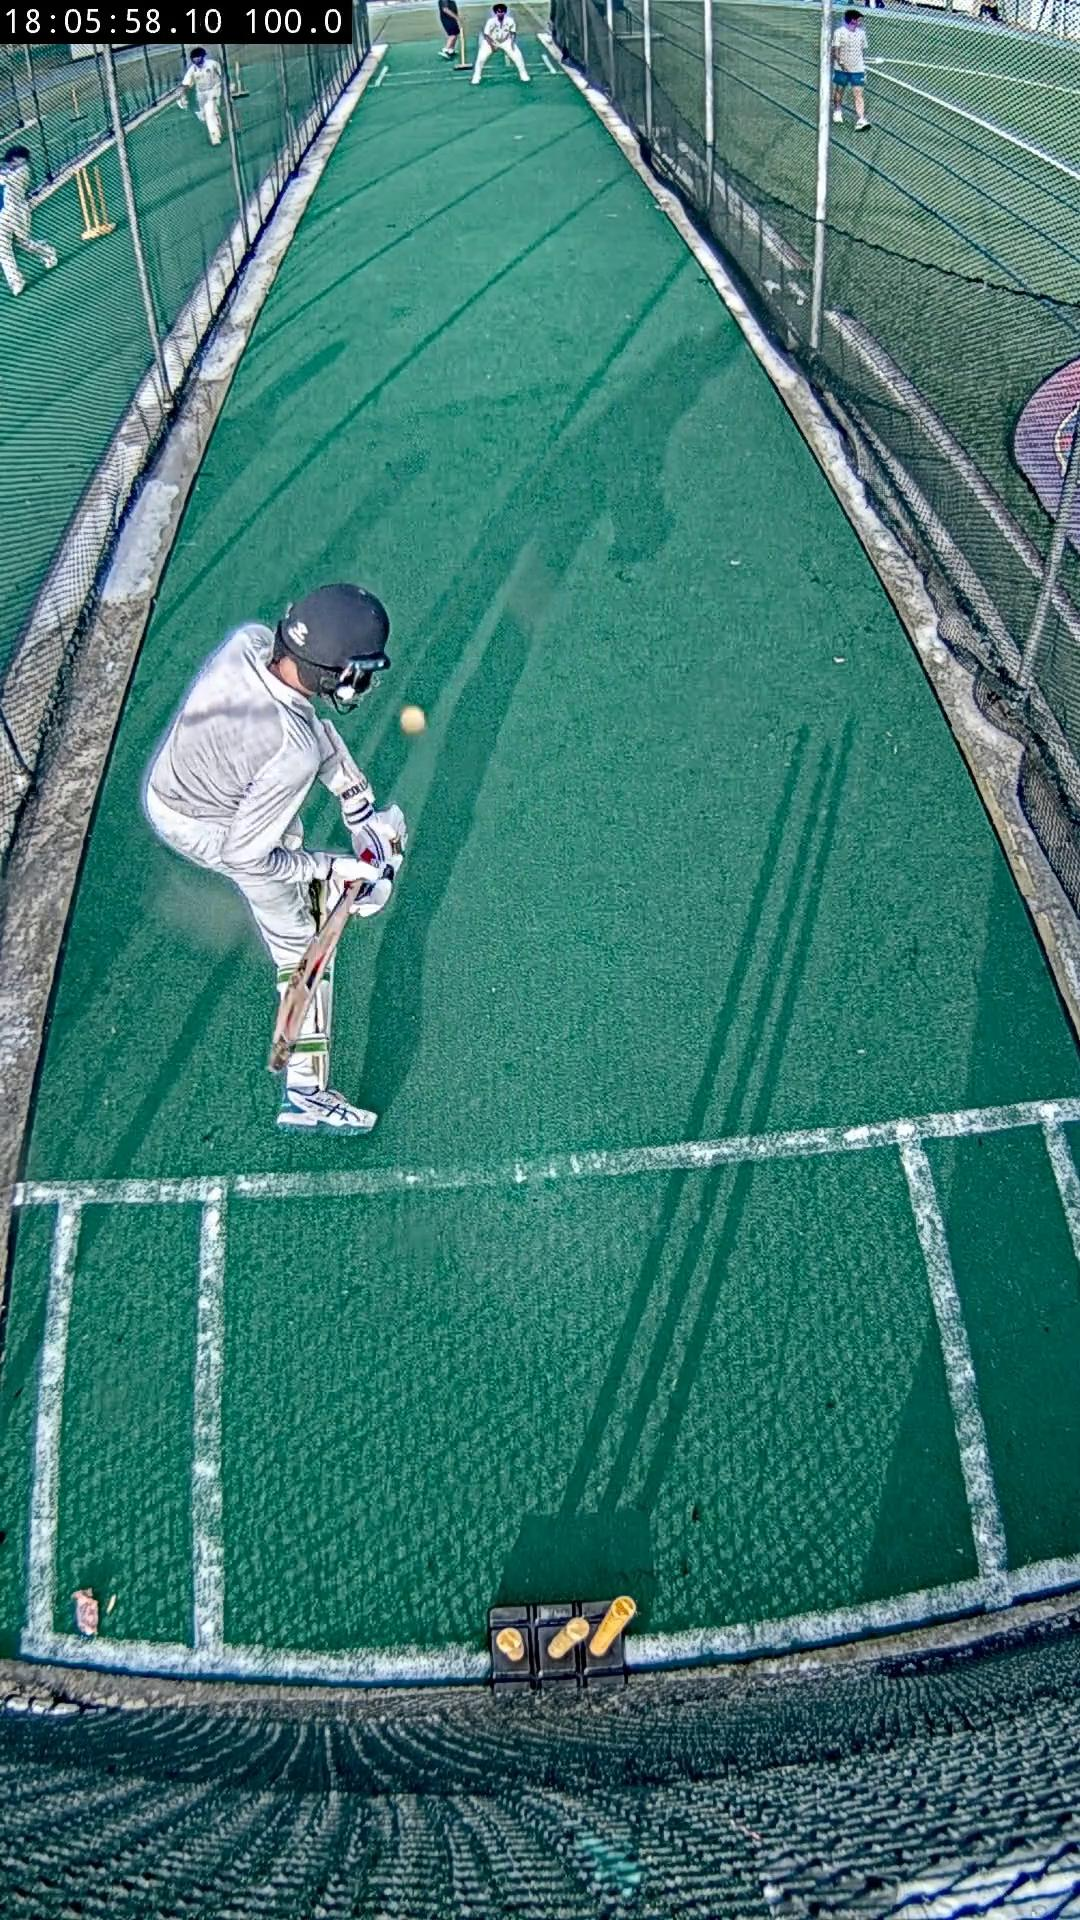ball: (401, 705, 427, 735)
bat: (266, 881, 361, 1072)
gloves: (330, 806, 405, 915)
helmet: (277, 585, 390, 711)
stumps: (488, 1597, 637, 1688)
